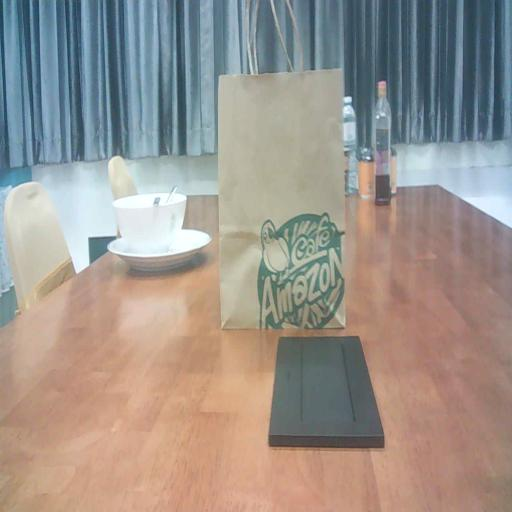bag: (214, 64, 353, 336)
